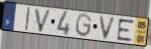4: (56, 10, 72, 37)
E: (116, 18, 135, 42)
G: (75, 13, 93, 39)
I: (25, 6, 32, 32)
V: (99, 15, 118, 41), (33, 8, 52, 33)
